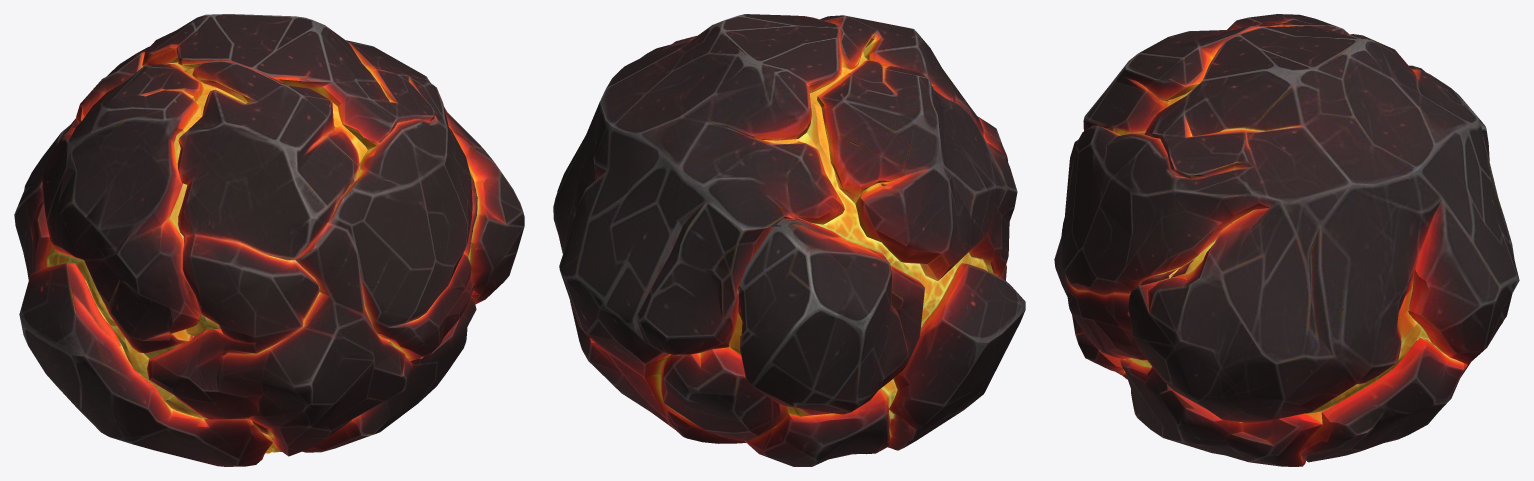
Rendered from ember.glb.
3 renders of one model, left to right at view 1: azimuth 30°, elevation 25°; view 2: azimuth 150°, elevation 25°; view 3: azimuth 270°, elevation 25°, orthographic.
Bounding box in the file's own units: 1.9 × 1.59 × 1.7.
Materials: 1 (1 with a texture image).
